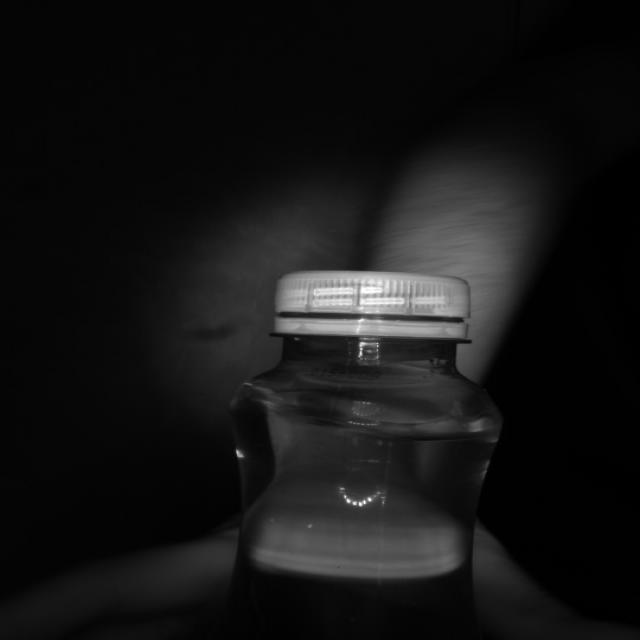Not Good: (271, 270, 468, 342)
